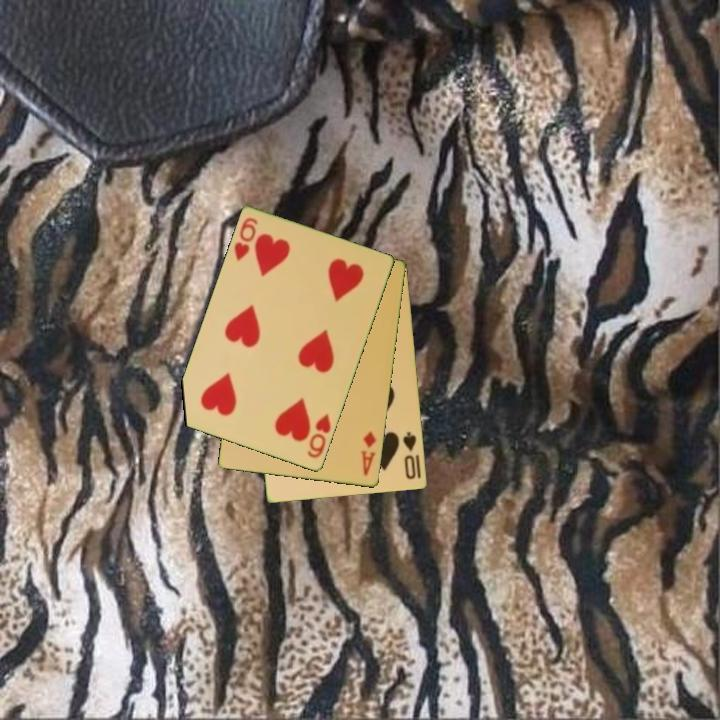10s: (400, 429, 419, 482)
6h: (231, 214, 261, 265), (304, 411, 334, 461)
Ad: (357, 428, 379, 479)
